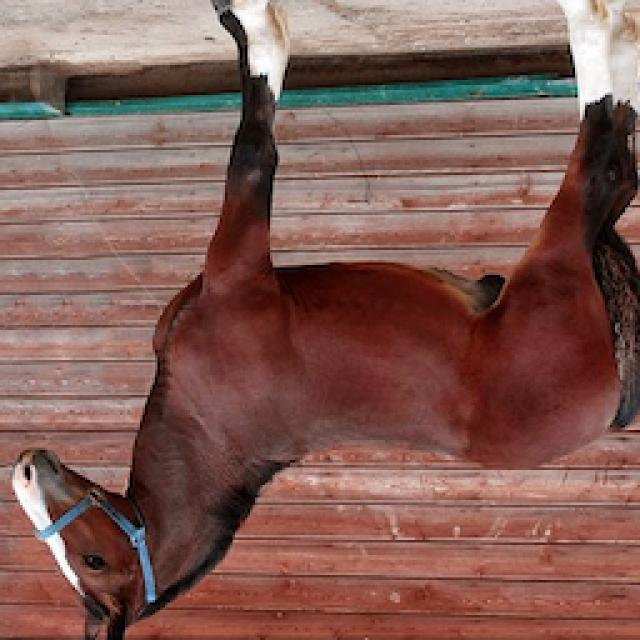Horse: (8, 3, 640, 640)
